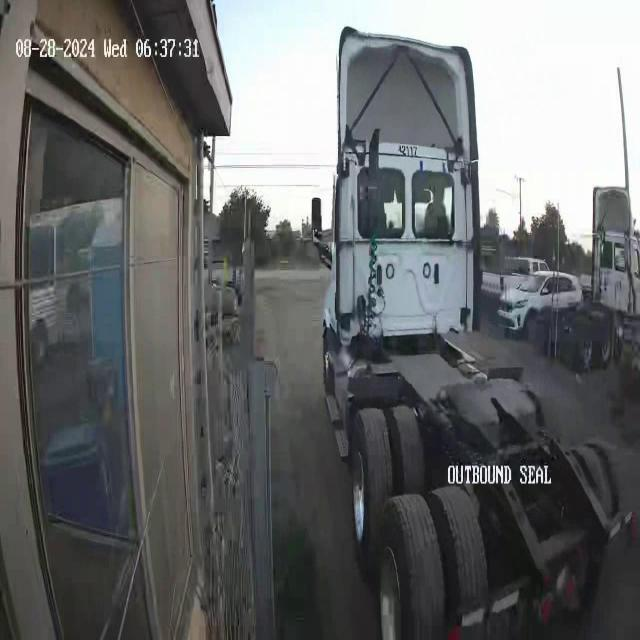TRUCK_OUT: (320, 24, 634, 637)
